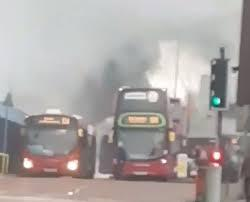smoke: (39, 39, 193, 156)
